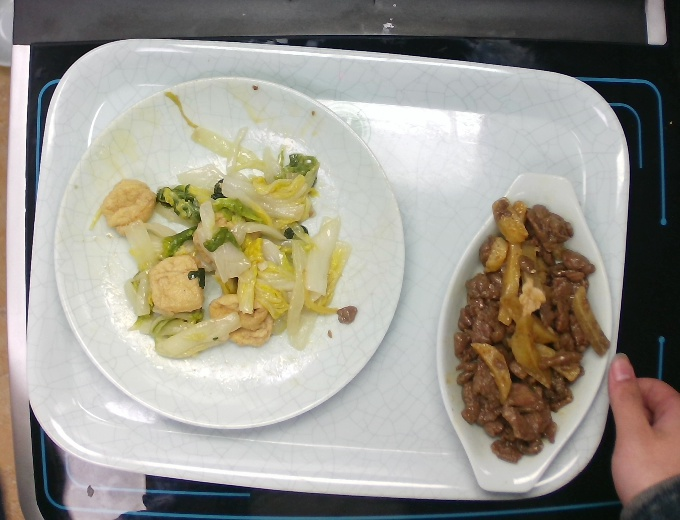JYsf-Da_Yuan_Pan: (48, 73, 415, 437)
JYsf-Yu_Pan: (428, 162, 619, 498)
